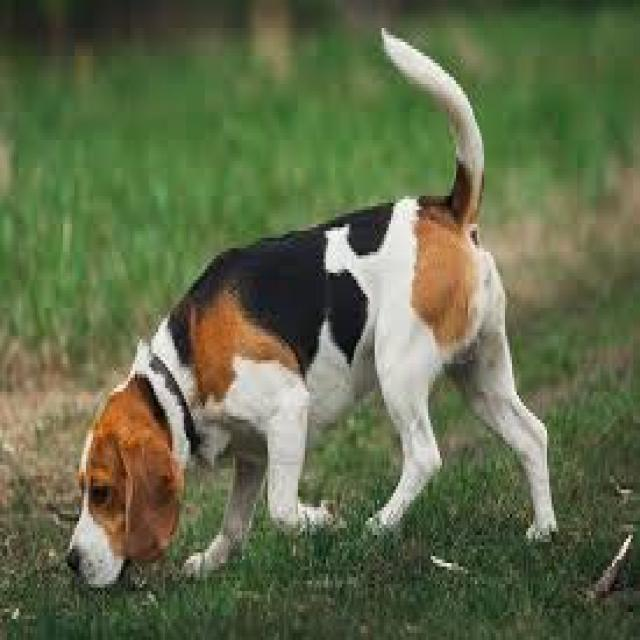Dog: (60, 23, 566, 598)
